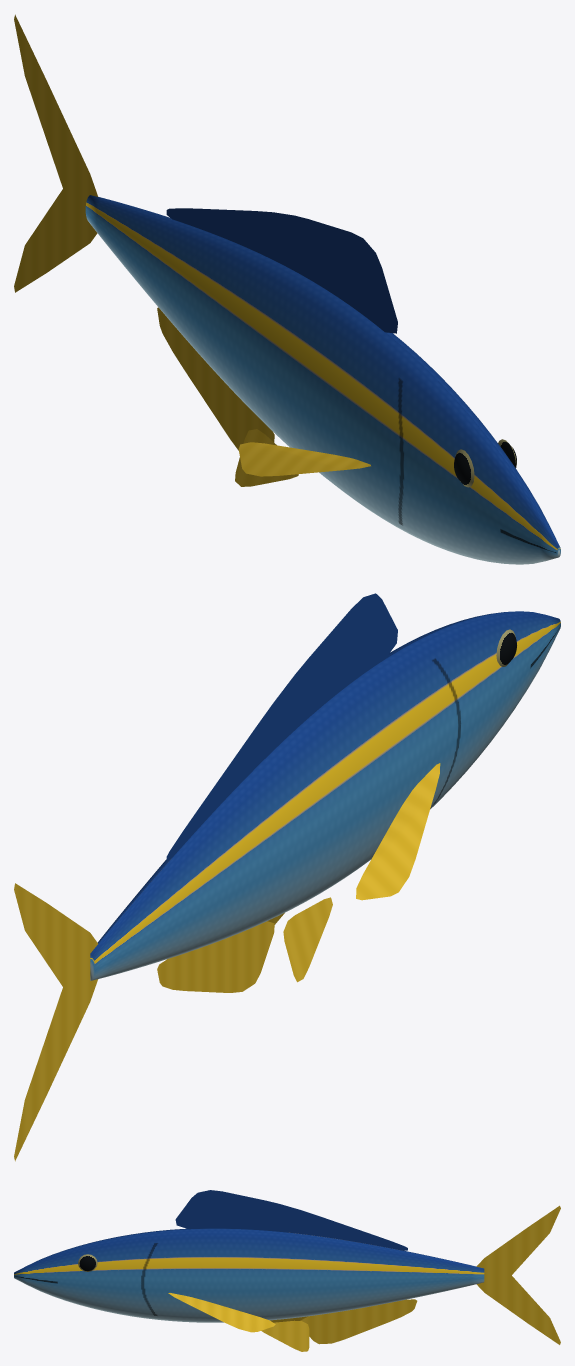
The model's file is fusilier.glb.
3 views of the same model, one above another, from view 1: azimuth 30°, elevation 25°; view 2: azimuth 150°, elevation 25°; view 3: azimuth 270°, elevation 25° (orthographic). The views are drawn at different scales.
Parts seen in each view (by area): view 1: fusilier_lod0; view 2: fusilier_lod0; view 3: fusilier_lod0.
Boxes of the visible parts, x1,y1,x2,y2 form: fusilier_lod0: (14, 14, 560, 564); fusilier_lod0: (14, 593, 560, 1161); fusilier_lod0: (14, 1190, 560, 1351).
Size of what is drawn, in the model's own units: 0.0405 by 0.0783 by 0.25.
1 material, 1 textured.
